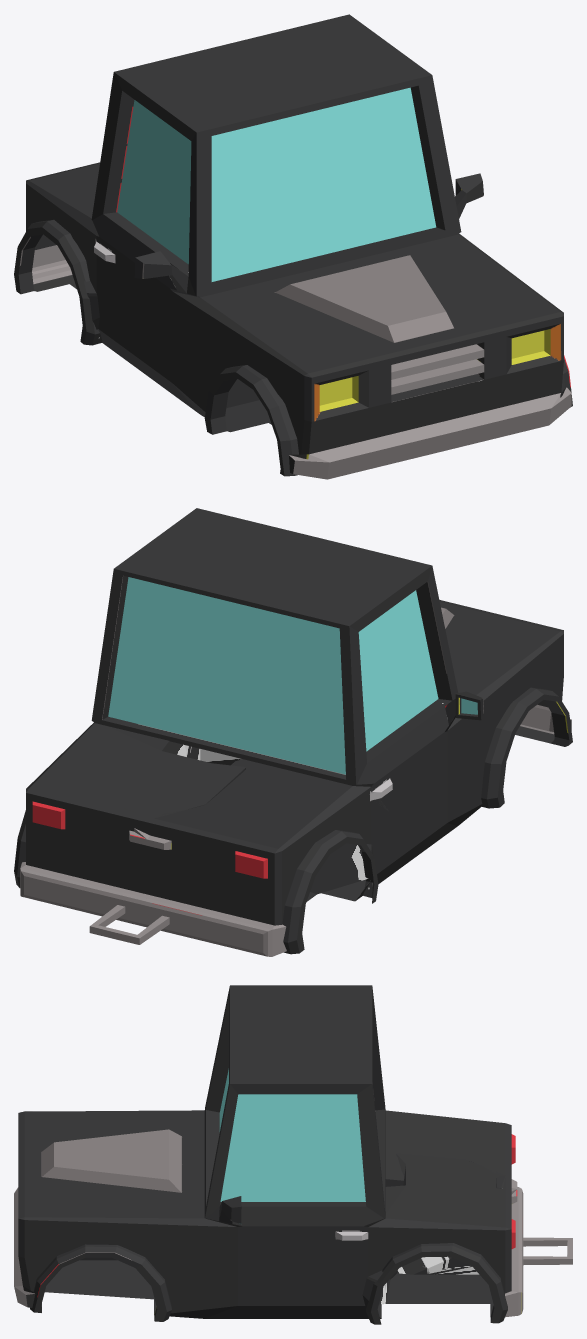
The model's file is PlayerCar_01_Fractured.fbx.
3 views of the same model, one above another, from view 1: azimuth 30°, elevation 25°; view 2: azimuth 150°, elevation 25°; view 3: azimuth 270°, elevation 25° (orthographic). The views are drawn at different scales.
Parts seen in each view (by area): view 1: Player_Car_01.004, Player_Car_01.003, Player_Car_01.002, Player_Car_01.006; view 2: Player_Car_01.004, Player_Car_01.006, Player_Car_01.005, Player_Car_01.003, Player_Car_01.002; view 3: Player_Car_01.004, Player_Car_01.002, Player_Car_01.005, Player_Car_01.003, Player_Car_01.006.
Part boxes in pixels (x1,y1,x2,y2): Player_Car_01.004: (91, 14, 483, 413); Player_Car_01.003: (172, 266, 440, 479); Player_Car_01.002: (329, 233, 572, 452); Player_Car_01.006: (14, 162, 102, 345); Player_Car_01.004: (91, 508, 483, 901); Player_Car_01.006: (114, 759, 388, 956); Player_Car_01.005: (14, 722, 246, 938); Player_Car_01.003: (439, 600, 572, 825); Player_Car_01.002: (184, 745, 242, 765); Player_Car_01.004: (204, 985, 385, 1318); Player_Car_01.002: (14, 1154, 237, 1321); Player_Car_01.005: (362, 1153, 572, 1324); Player_Car_01.003: (14, 1110, 204, 1260); Player_Car_01.006: (385, 1110, 572, 1274).
Size of the model in its own units: 446 by 349 by 727.
